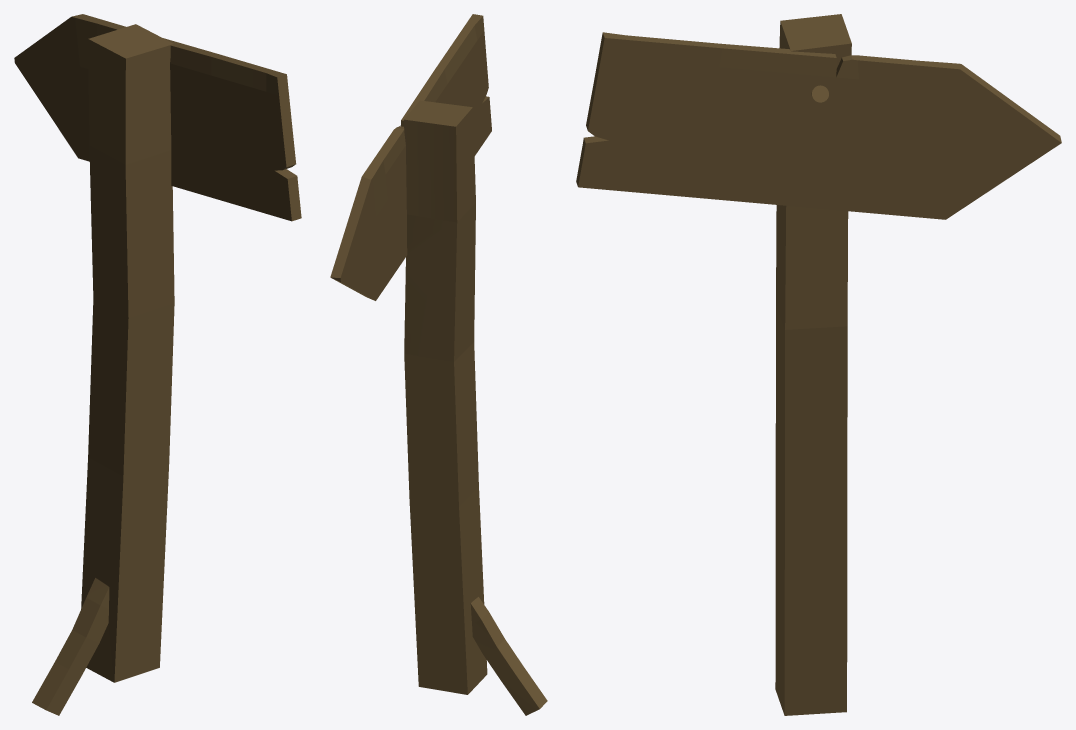
Rendered from wooden sign.glb.
The picture shows the model from 3 angles, left to right: view 1: azimuth 30°, elevation 25°; view 2: azimuth 150°, elevation 25°; view 3: azimuth 270°, elevation 25°; orthographic projection. The views are drawn at different scales.
Parts seen in each view (by area): view 1: Cube.002; view 2: Cube.002; view 3: Cube.002.
Boxes of the visible parts, x1,y1,x2,y2 form: Cube.002: (14, 14, 301, 715); Cube.002: (330, 14, 547, 715); Cube.002: (576, 14, 1061, 715).
Bounding box in the file's own units: 1.53 × 5.81 × 3.52.
